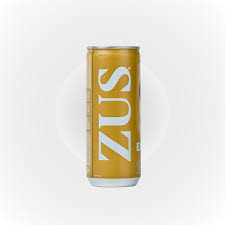can: (80, 41, 148, 193)
